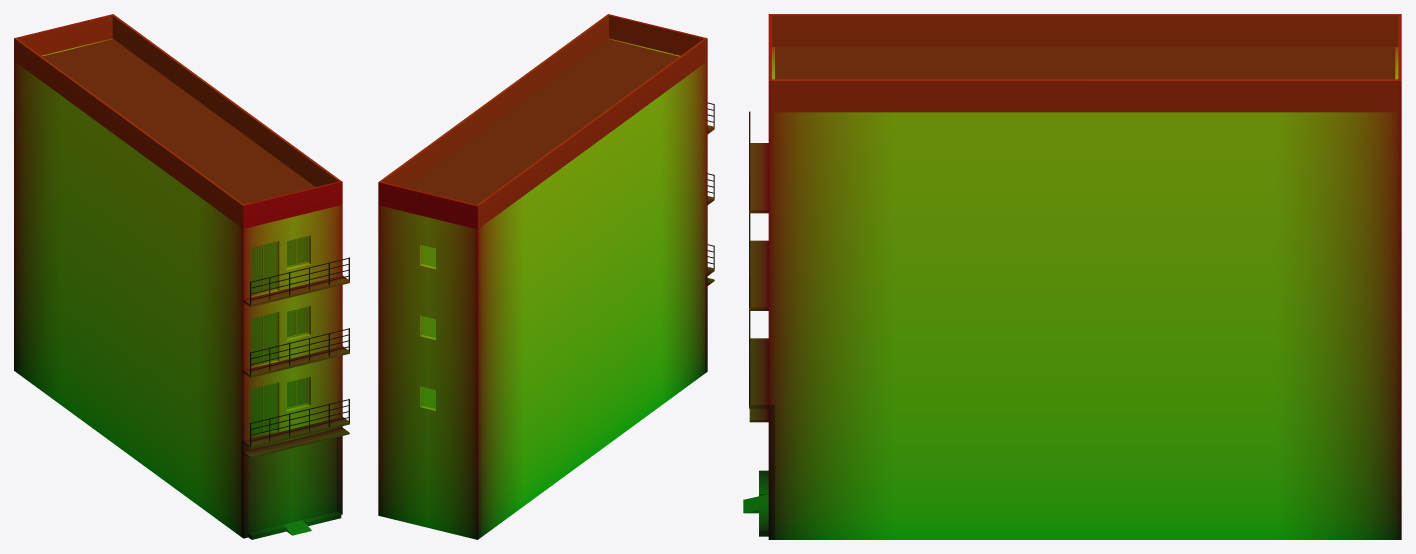
The model's file is nha_pho_5x20.glb.
3 views of the same model, side by side, from view 1: azimuth 30°, elevation 25°; view 2: azimuth 150°, elevation 25°; view 3: azimuth 270°, elevation 25° (orthographic). The views are drawn at different scales.
Visible parts, largest first — view 1: nha_pho_5x20, shutter_nha_pho_5x20; view 2: nha_pho_5x20; view 3: nha_pho_5x20.
Boxes of the visible parts, x1,y1,x2,y2 form: nha_pho_5x20: [14, 14, 349, 539]; shutter_nha_pho_5x20: [248, 437, 336, 532]; nha_pho_5x20: [378, 14, 714, 539]; nha_pho_5x20: [743, 14, 1401, 539].
Size of what is drawn, in the model's own units: 5 by 16 by 20.8.
